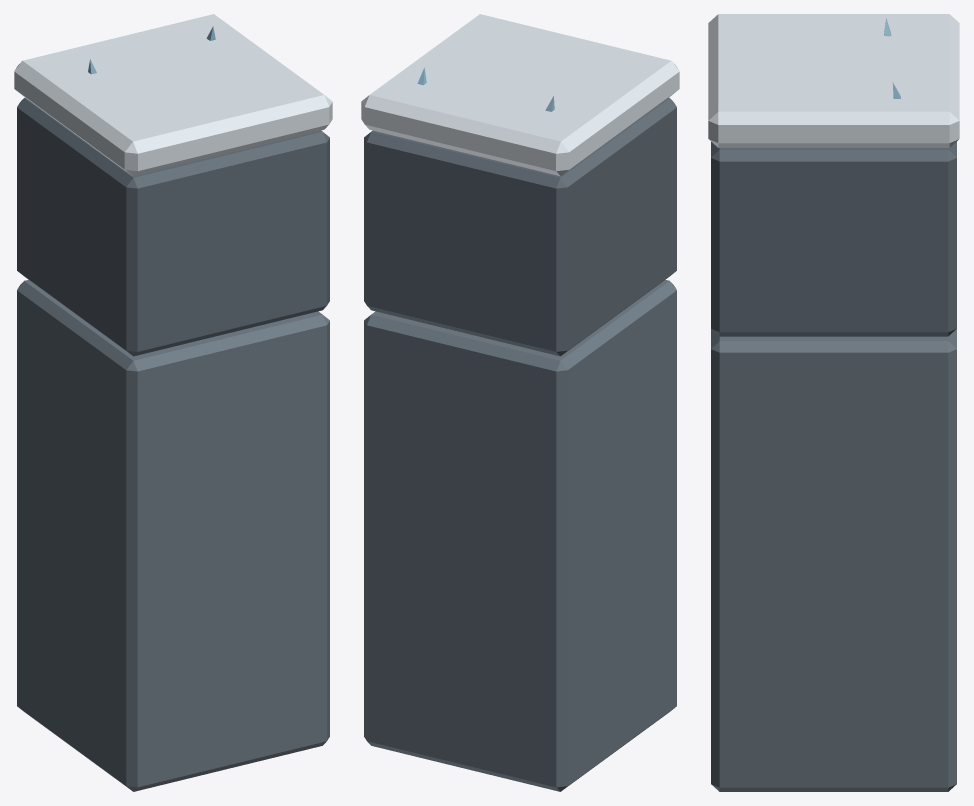
Rendered from column-rime-2b.glb.
3 renders of one model, left to right at view 1: azimuth 30°, elevation 25°; view 2: azimuth 150°, elevation 25°; view 3: azimuth 270°, elevation 25°, orthographic. The views are drawn at different scales.
Visible parts, largest first — view 1: column-rime-2b; view 2: column-rime-2b; view 3: column-rime-2b.
Boxes of the visible parts, x1,y1,x2,y2 form: column-rime-2b: [14, 14, 332, 791]; column-rime-2b: [361, 14, 679, 791]; column-rime-2b: [708, 14, 959, 791].
Size of the model in its own units: 1 by 3.06 by 1.
